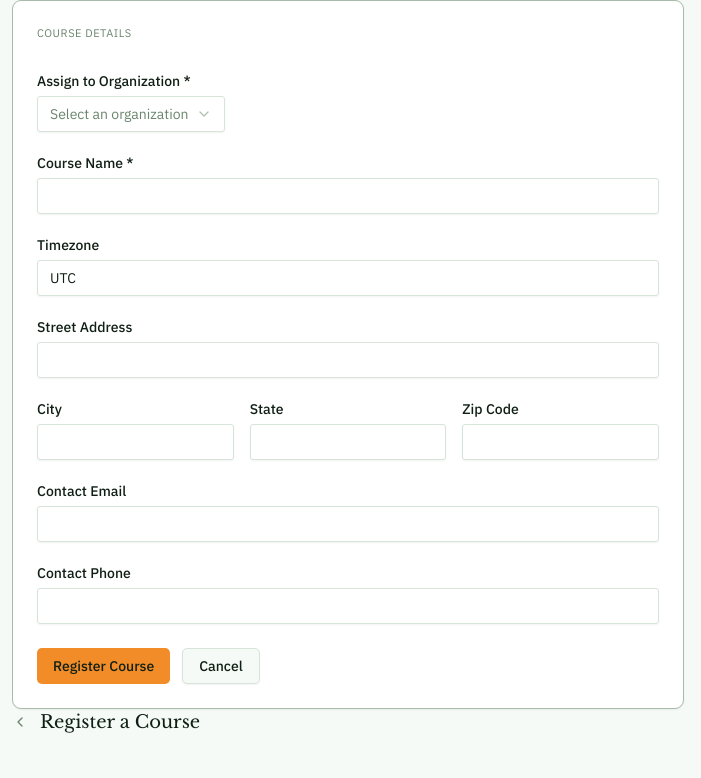
Scenario: CourseCreate › shows validation error when organization is not selected
Type "Pine Valley" into the field labelled "Course Name *". click: [348, 196]
box: [37,178,659,214]
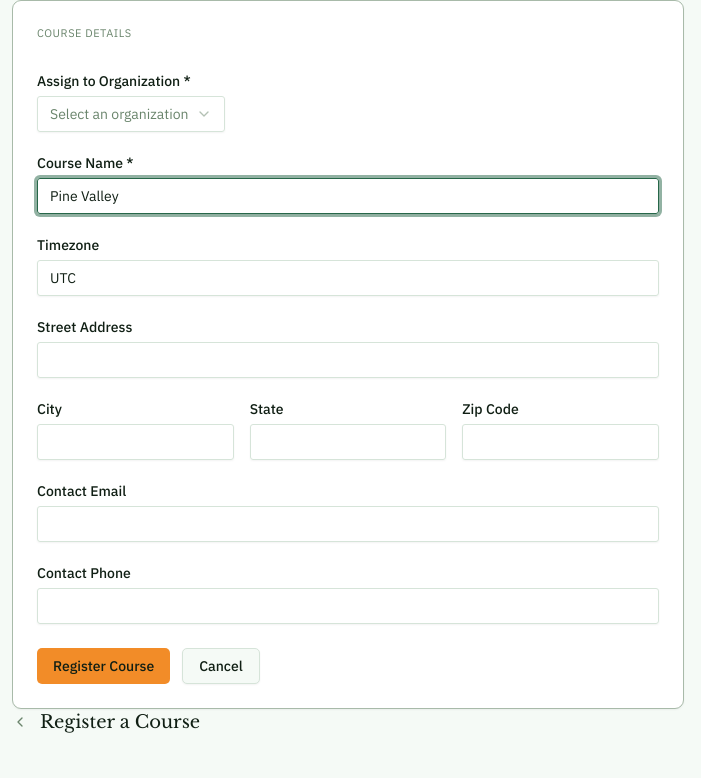
Click the button "Register Course". click: [104, 666]
box: [37,648,170,684]
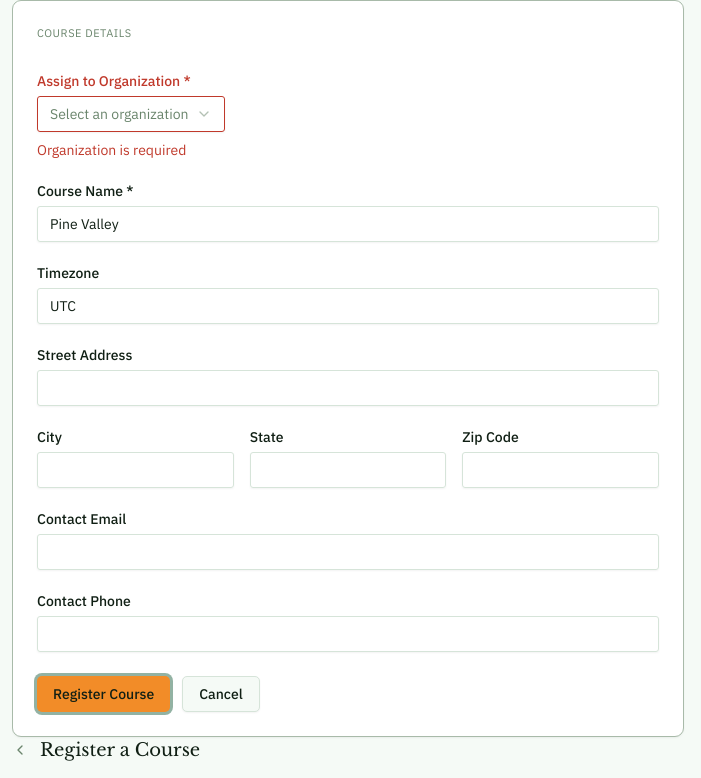
Check: the text "Organization is required" is shown, box [37,140,186,158]
